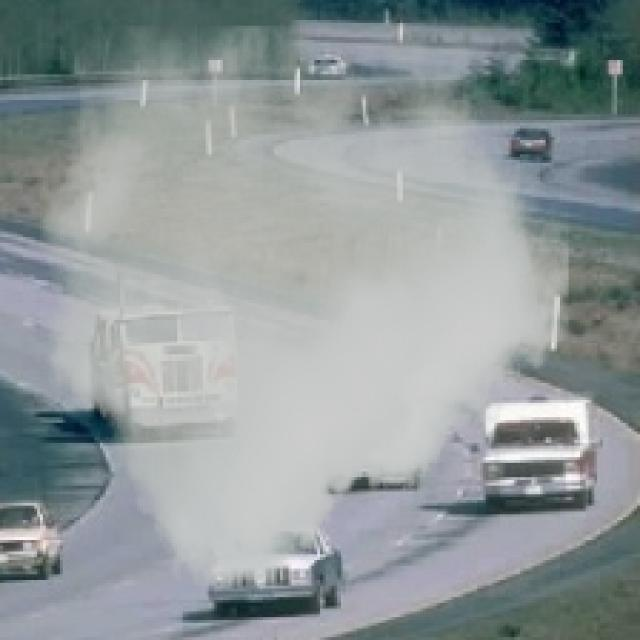smoke: (40, 26, 569, 586)
